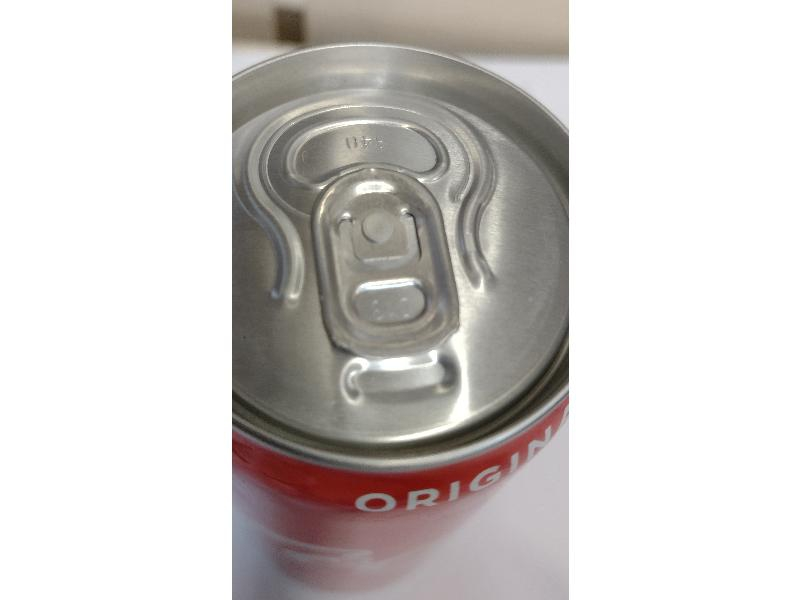can: (227, 43, 564, 466)
